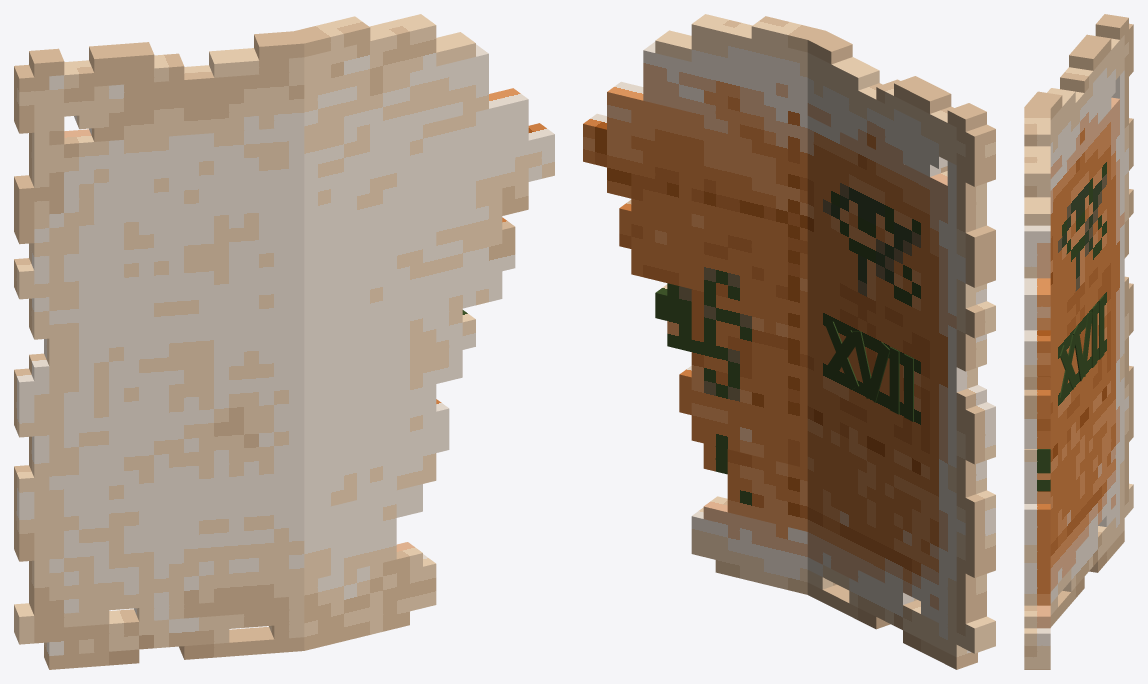
Rendered from lost_page_06Q_XVII.gltf.
3 renders of one model, left to right at view 1: azimuth 30°, elevation 25°; view 2: azimuth 150°, elevation 25°; view 3: azimuth 270°, elevation 25°, orthographic. The views are drawn at different scales.
Visible parts, largest first — view 1: MapLeft$$(4)-Local, MapCenter$$(4)-Local; view 2: MapLeft$$(4)-Local, MapCenter$$(4)-Local, I-Local, V02$$(1)-Local, V01-Local, II-Local, V01$$(1)-Local; view 3: MapLeft$$(4)-Local, MapCenter$$(4)-Local, I-Local, II-Local, V01$$(1)-Local, V01-Local, V02$$(1)-Local, V02-Local.
Part boxes in pixels (x1,y1,x2,y2): MapLeft$$(4)-Local: (14,31,304,669); MapCenter$$(4)-Local: (294,14,554,650); MapLeft$$(4)-Local: (805,31,995,669); MapCenter$$(4)-Local: (583,14,825,594); I-Local: (889,347,899,414); V02$$(1)-Local: (866,342,889,402); V01-Local: (825,321,858,389); II-Local: (904,354,913,421); V01$$(1)-Local: (852,331,874,398); MapLeft$$(4)-Local: (1025,14,1133,627); MapCenter$$(4)-Local: (1024,107,1050,669); I-Local: (1091,304,1097,367); II-Local: (1099,295,1104,359); V01$$(1)-Local: (1073,325,1085,381); V01-Local: (1060,345,1076,389); V02$$(1)-Local: (1082,312,1092,376); V02-Local: (1059,334,1075,400).
Size of the model in its own units: 36.85 by 44 by 8.38.
8 materials, 8 textured.
